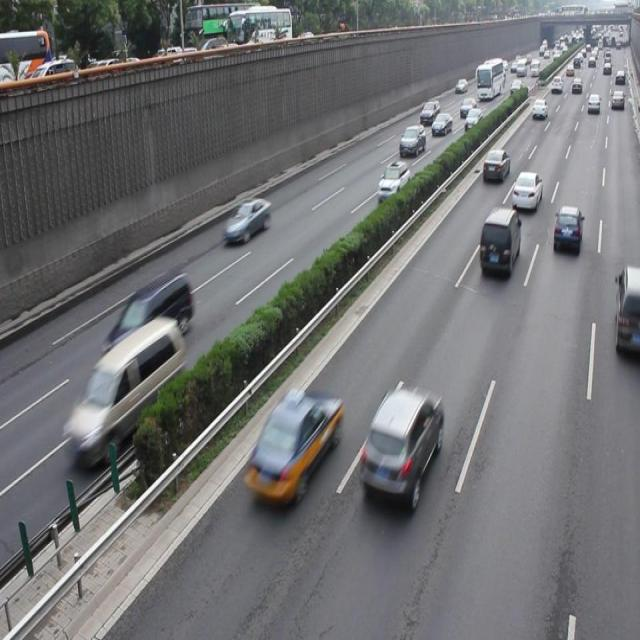car: (241, 389, 340, 505), (358, 386, 444, 512), (612, 266, 640, 361), (222, 196, 270, 246), (551, 202, 581, 255), (376, 161, 409, 202), (510, 170, 541, 212), (481, 148, 509, 183)
truck: (64, 315, 184, 468), (102, 268, 193, 360), (477, 206, 519, 278)
